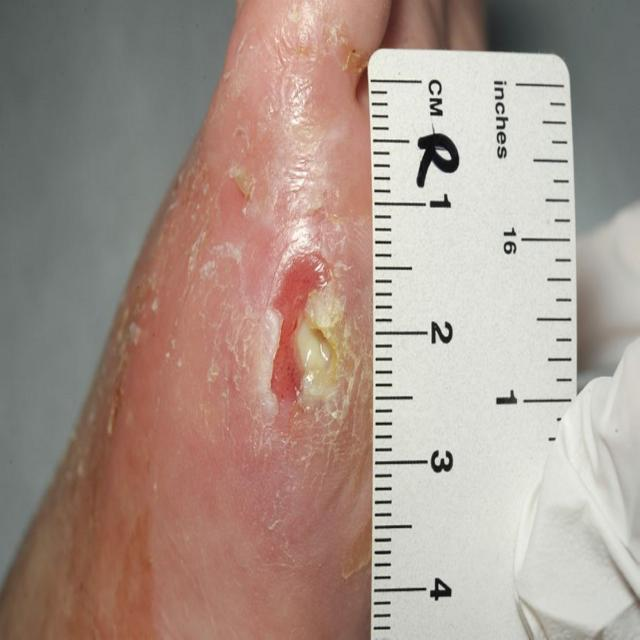wound: (230, 235, 373, 471)
